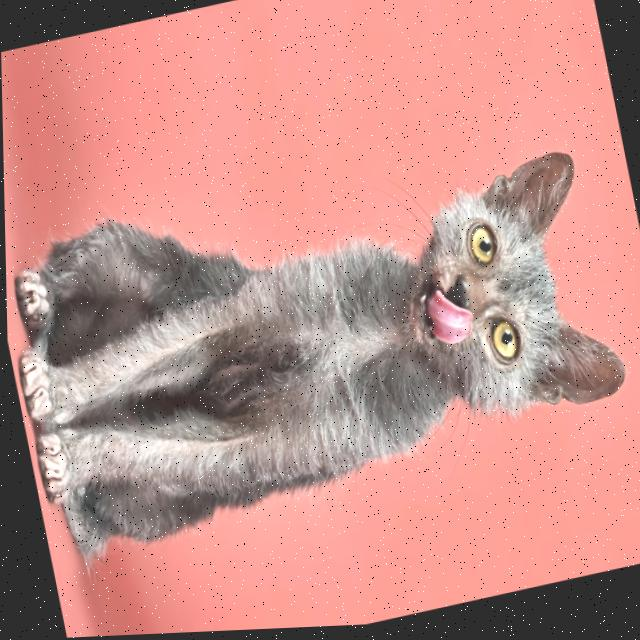Lykoi: (2, 118, 640, 585)
